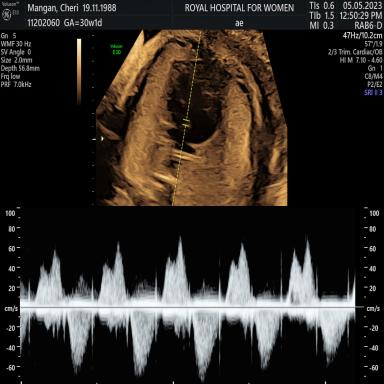Ultrasound-Waves: (25, 217, 354, 384)
